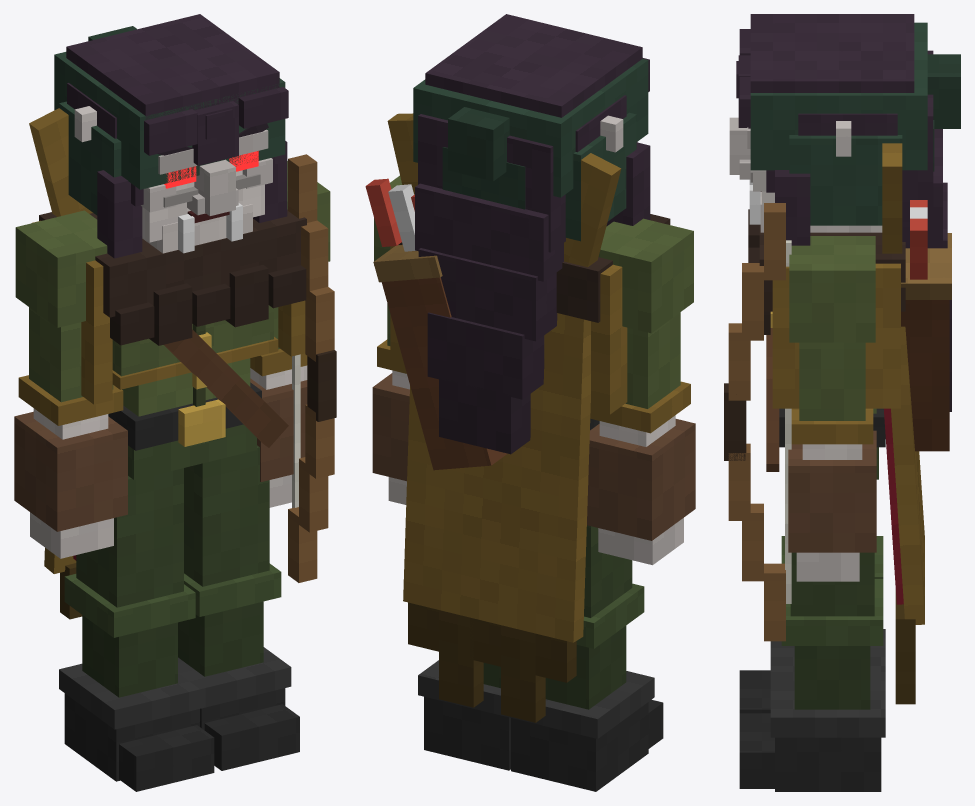
File: vampire_chasseur.glb
The picture shows the model from 3 angles, left to right: view 1: azimuth 30°, elevation 25°; view 2: azimuth 150°, elevation 25°; view 3: azimuth 270°, elevation 25°; orthographic projection. The views are drawn at different scales.
Visible parts, largest first — view 1: Torso, Head, LegR, ArmR, LegL, HandL, ArmL; view 2: Torso, Head, ArmR, LegR, LegL, ArmL; view 3: Head, Torso, ArmL, LegL, HandL, LegR.
Part boxes in pixels (left/top/right/bottom): Torso: left=29, top=108, right=306, bottom=619; Head: left=54, top=14, right=288, bottom=258; LegR: left=59, top=468, right=214, bottom=791; ArmR: left=14, top=210, right=127, bottom=558; LegL: left=178, top=445, right=299, bottom=770; HandL: left=288, top=154, right=336, bottom=582; ArmL: left=250, top=161, right=330, bottom=507; Torso: left=365, top=113, right=670, bottom=722; Head: left=413, top=14, right=650, bottom=454; ArmR: left=587, top=218, right=695, bottom=565; LegR: left=505, top=525, right=663, bottom=791; LegL: left=418, top=660, right=510, bottom=770; ArmL: left=372, top=175, right=409, bottom=504; Head: left=729, top=14, right=960, bottom=411; Torso: left=748, top=143, right=951, bottom=704; ArmL: left=788, top=236, right=876, bottom=581; LegL: left=739, top=552, right=885, bottom=791; HandL: left=724, top=203, right=791, bottom=641; LegR: left=739, top=536, right=885, bottom=713.
Size of the model in its own units: 0.738 by 1.75 by 0.535.
45 materials, 45 textured.
